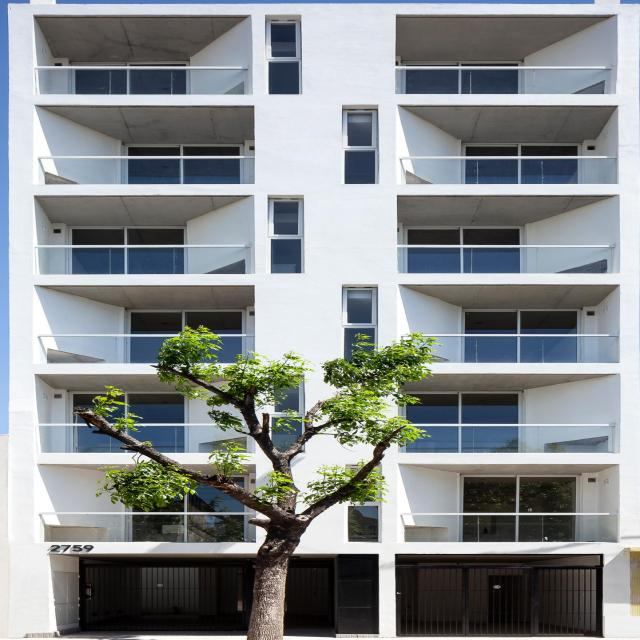Railing: (41, 510, 260, 542), (35, 153, 252, 184), (399, 510, 613, 541), (398, 154, 617, 184), (402, 423, 618, 452), (39, 66, 244, 95), (38, 425, 252, 452), (400, 247, 612, 274), (37, 248, 249, 275), (48, 337, 256, 364), (394, 69, 608, 95), (420, 337, 617, 364)
door: (139, 562, 205, 630)
plant: (64, 333, 446, 637)
wall: (11, 0, 639, 640)
windows: (466, 477, 579, 543), (406, 393, 526, 453), (72, 392, 185, 454), (139, 481, 244, 543), (464, 311, 583, 363), (132, 313, 242, 362), (403, 228, 524, 271), (75, 231, 188, 275), (130, 142, 243, 184), (466, 146, 587, 183), (402, 64, 520, 95), (76, 65, 190, 94), (266, 200, 305, 275), (344, 114, 382, 186), (268, 21, 302, 95), (350, 290, 375, 363), (349, 491, 384, 543)
